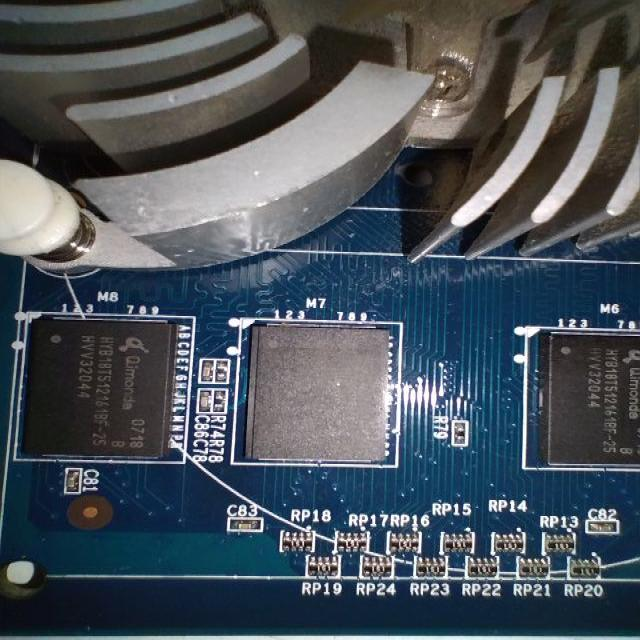capacitor: (228, 508, 269, 540)
resistor: (212, 352, 238, 394), (448, 417, 477, 452), (212, 383, 231, 420)
